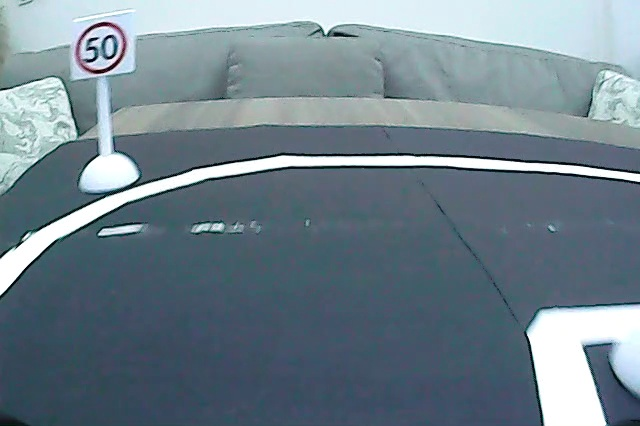speed limit 50: (76, 20, 127, 76)
